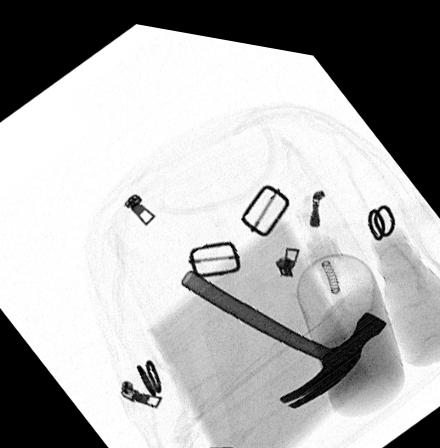Hammer: (180, 260, 386, 398)
